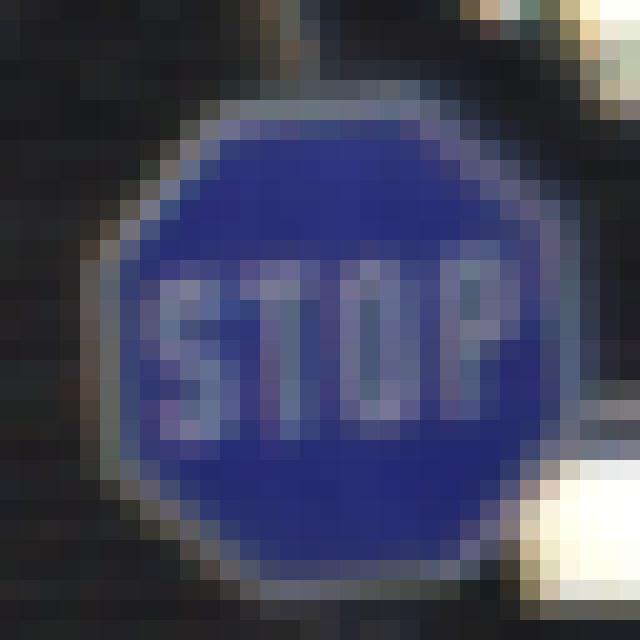STOP: (106, 118, 571, 588)
